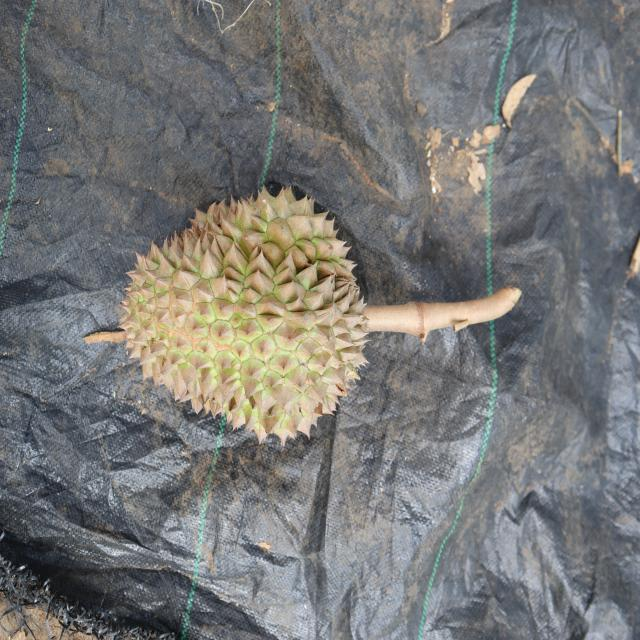mature: (118, 183, 370, 447)
